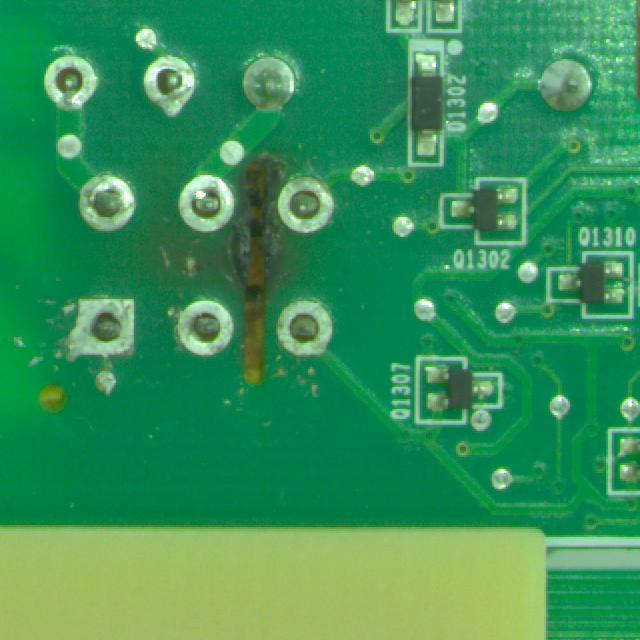Insufficient solder: (62, 288, 144, 369), (75, 169, 139, 243), (173, 289, 237, 363), (174, 170, 238, 240), (40, 50, 102, 120), (275, 172, 336, 238), (275, 296, 334, 364), (141, 51, 199, 118)
